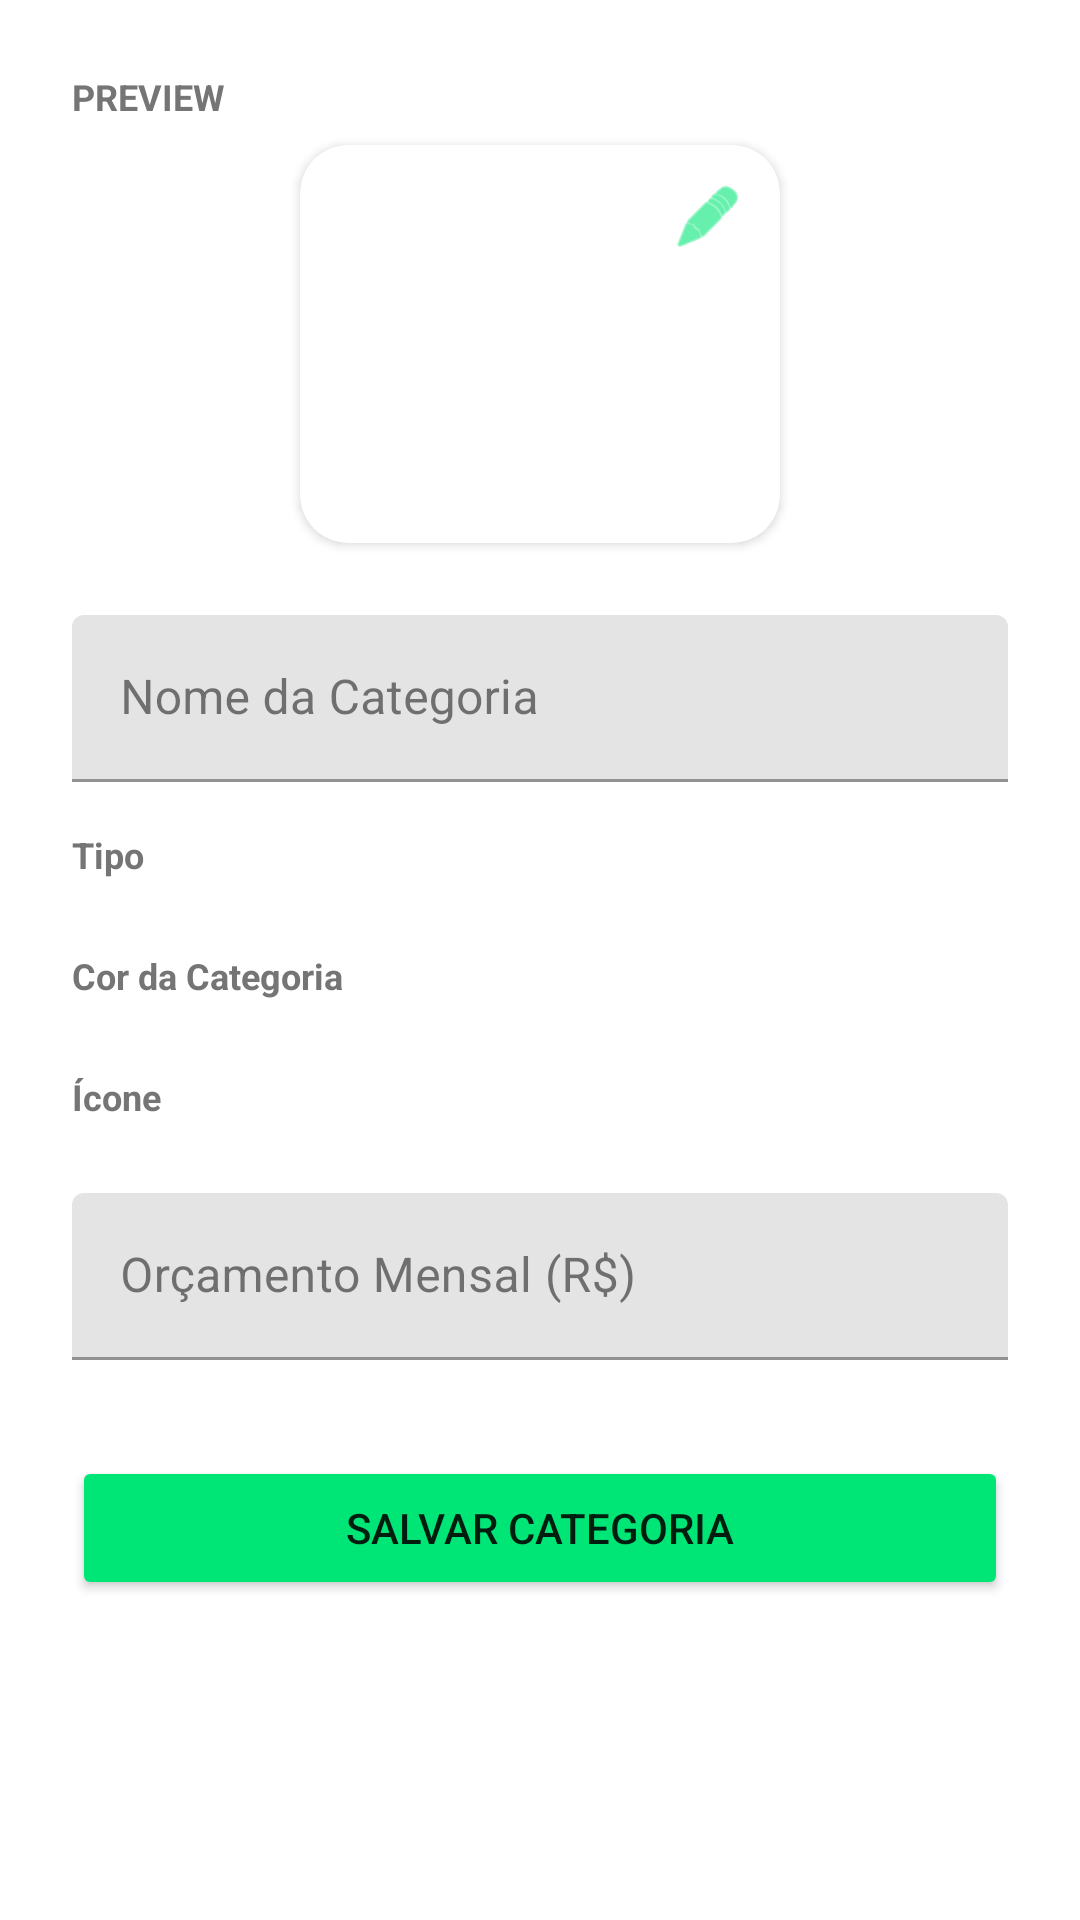

Screen size 1080w x 1920h. Icon name, then its center in pixels as [x,y]:
edit: [707,216]
